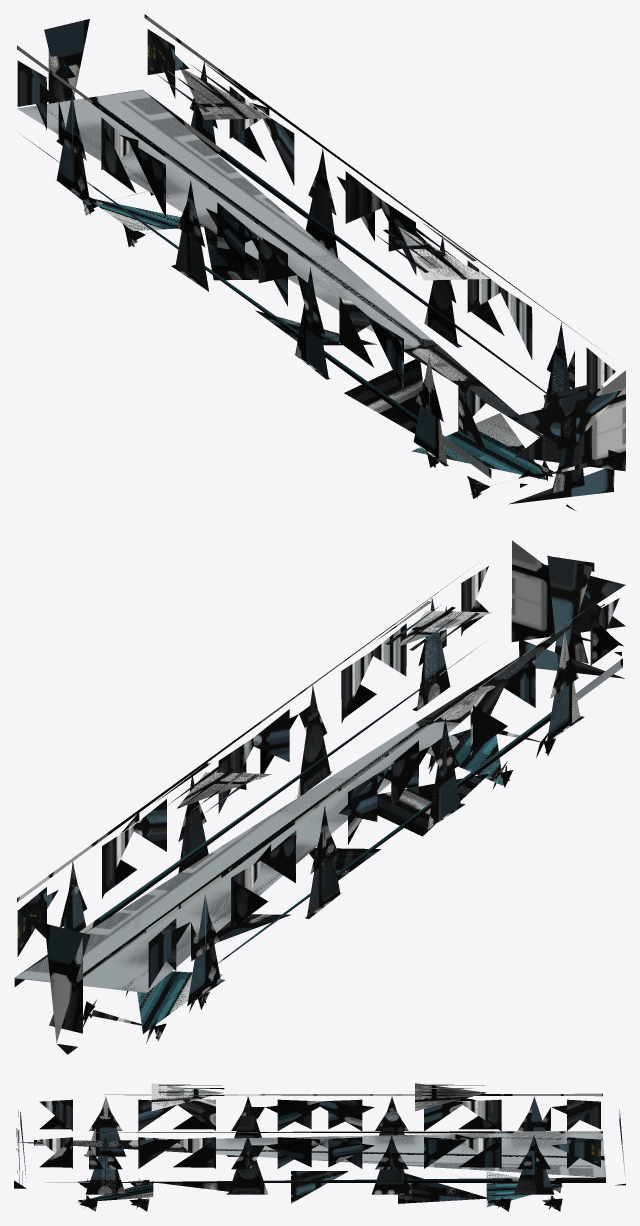
The model's file is urban_cab.lod2.obj.
3 views of the same model, one above another, from view 1: azimuth 30°, elevation 25°; view 2: azimuth 150°, elevation 25°; view 3: azimuth 270°, elevation 25° (orthographic). The views are drawn at different scales.
Parts seen in each view (by area): view 1: urban_cab; view 2: urban_cab; view 3: urban_cab.
Part boxes in pixels (x1,y1,x2,y2): urban_cab: [17, 14, 625, 510]; urban_cab: [14, 540, 625, 1054]; urban_cab: [14, 1083, 625, 1211].
Size of the model in its own units: 3.08 by 3.95 by 20.
Materials: 1 (1 with a texture image).
